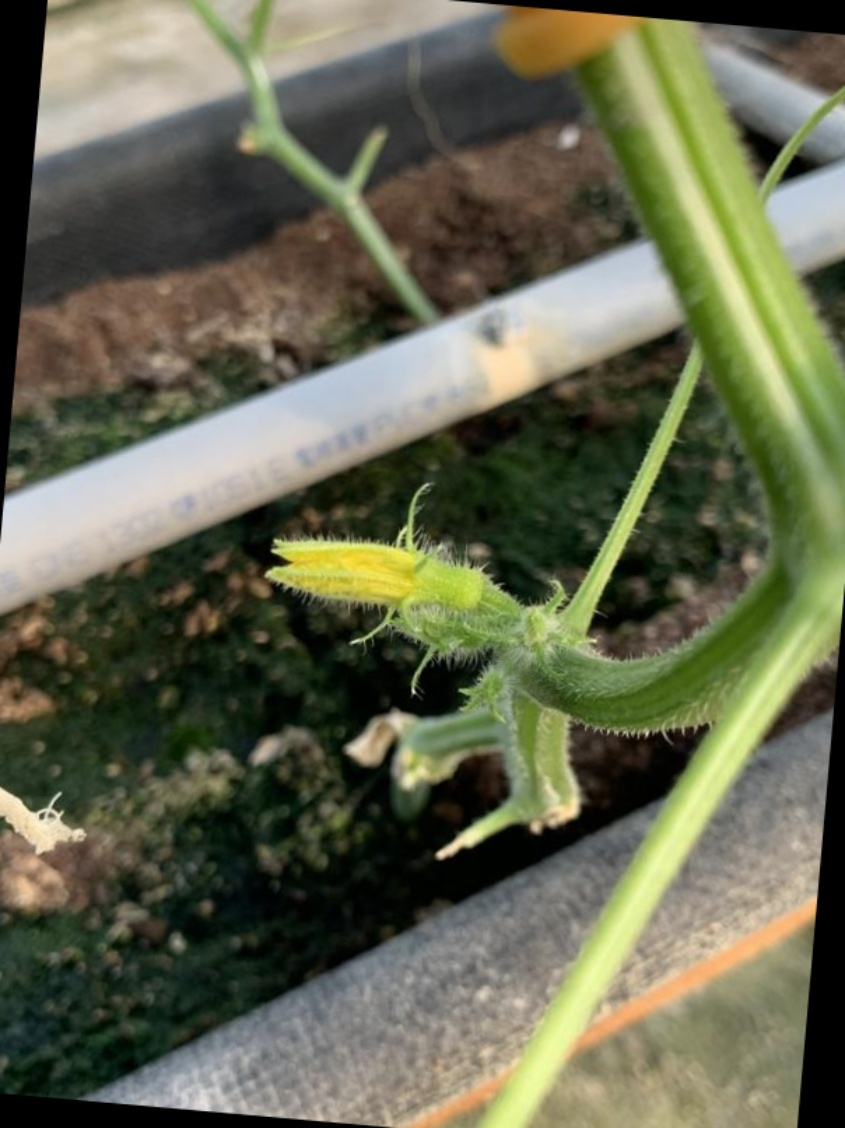bud: (264, 530, 517, 647)
